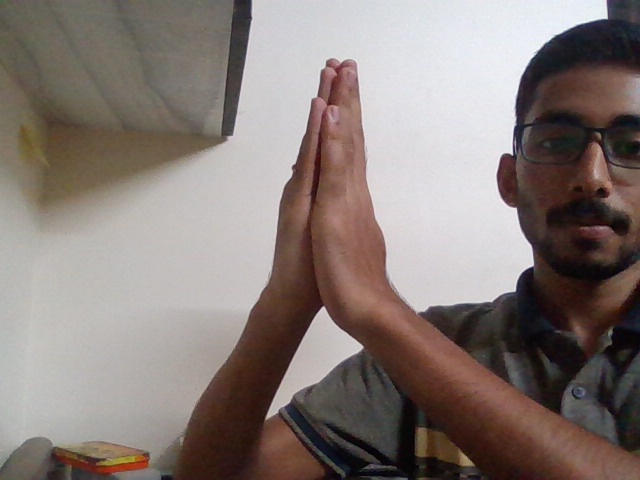Thank You: (250, 47, 421, 352)
